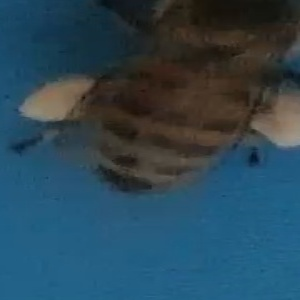bee: (10, 3, 298, 199)
